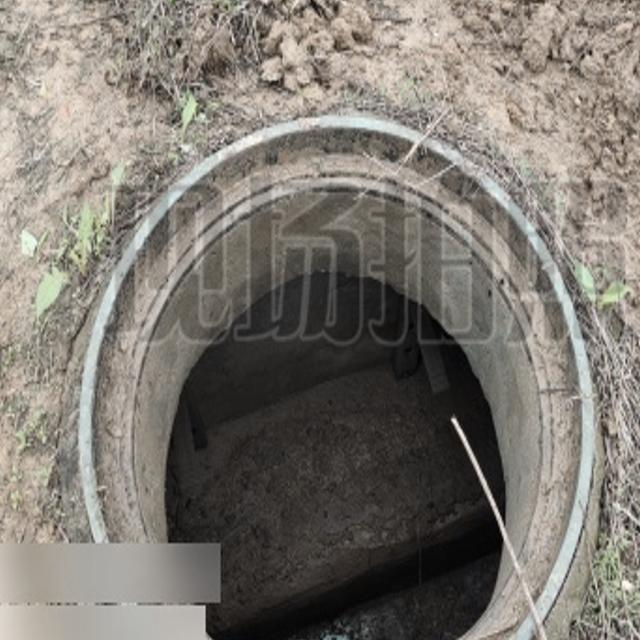lose: (55, 100, 606, 640)
